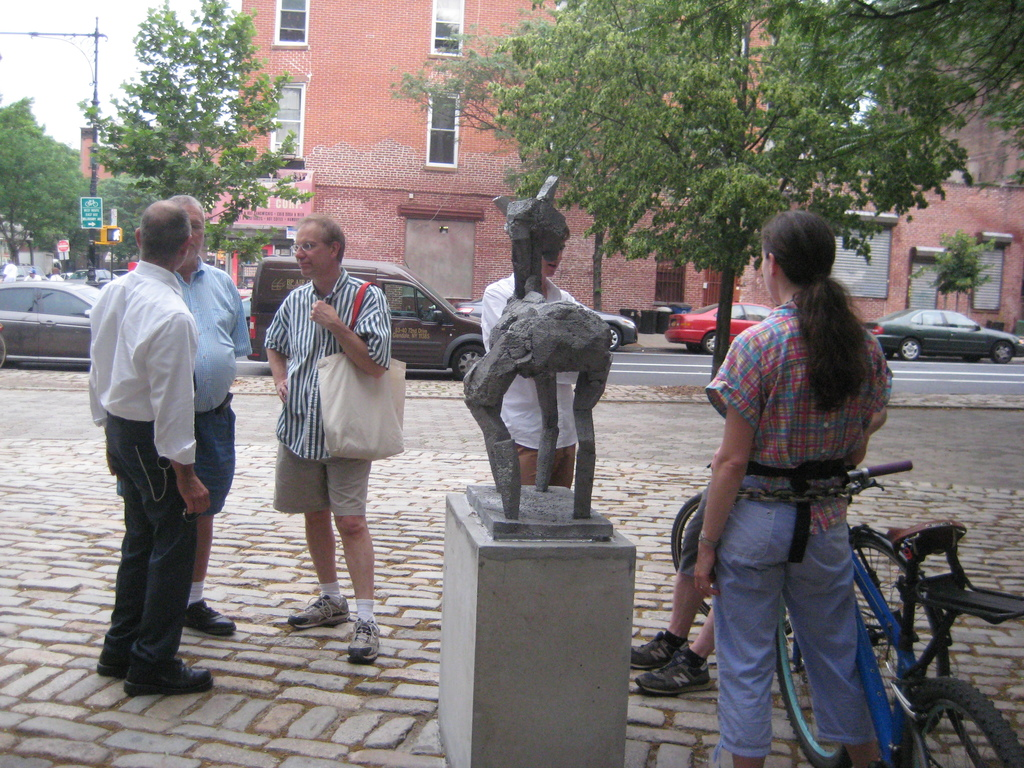Car: (460, 298, 635, 346), (0, 281, 96, 366), (864, 309, 1023, 360), (662, 303, 776, 351), (71, 269, 114, 288)
